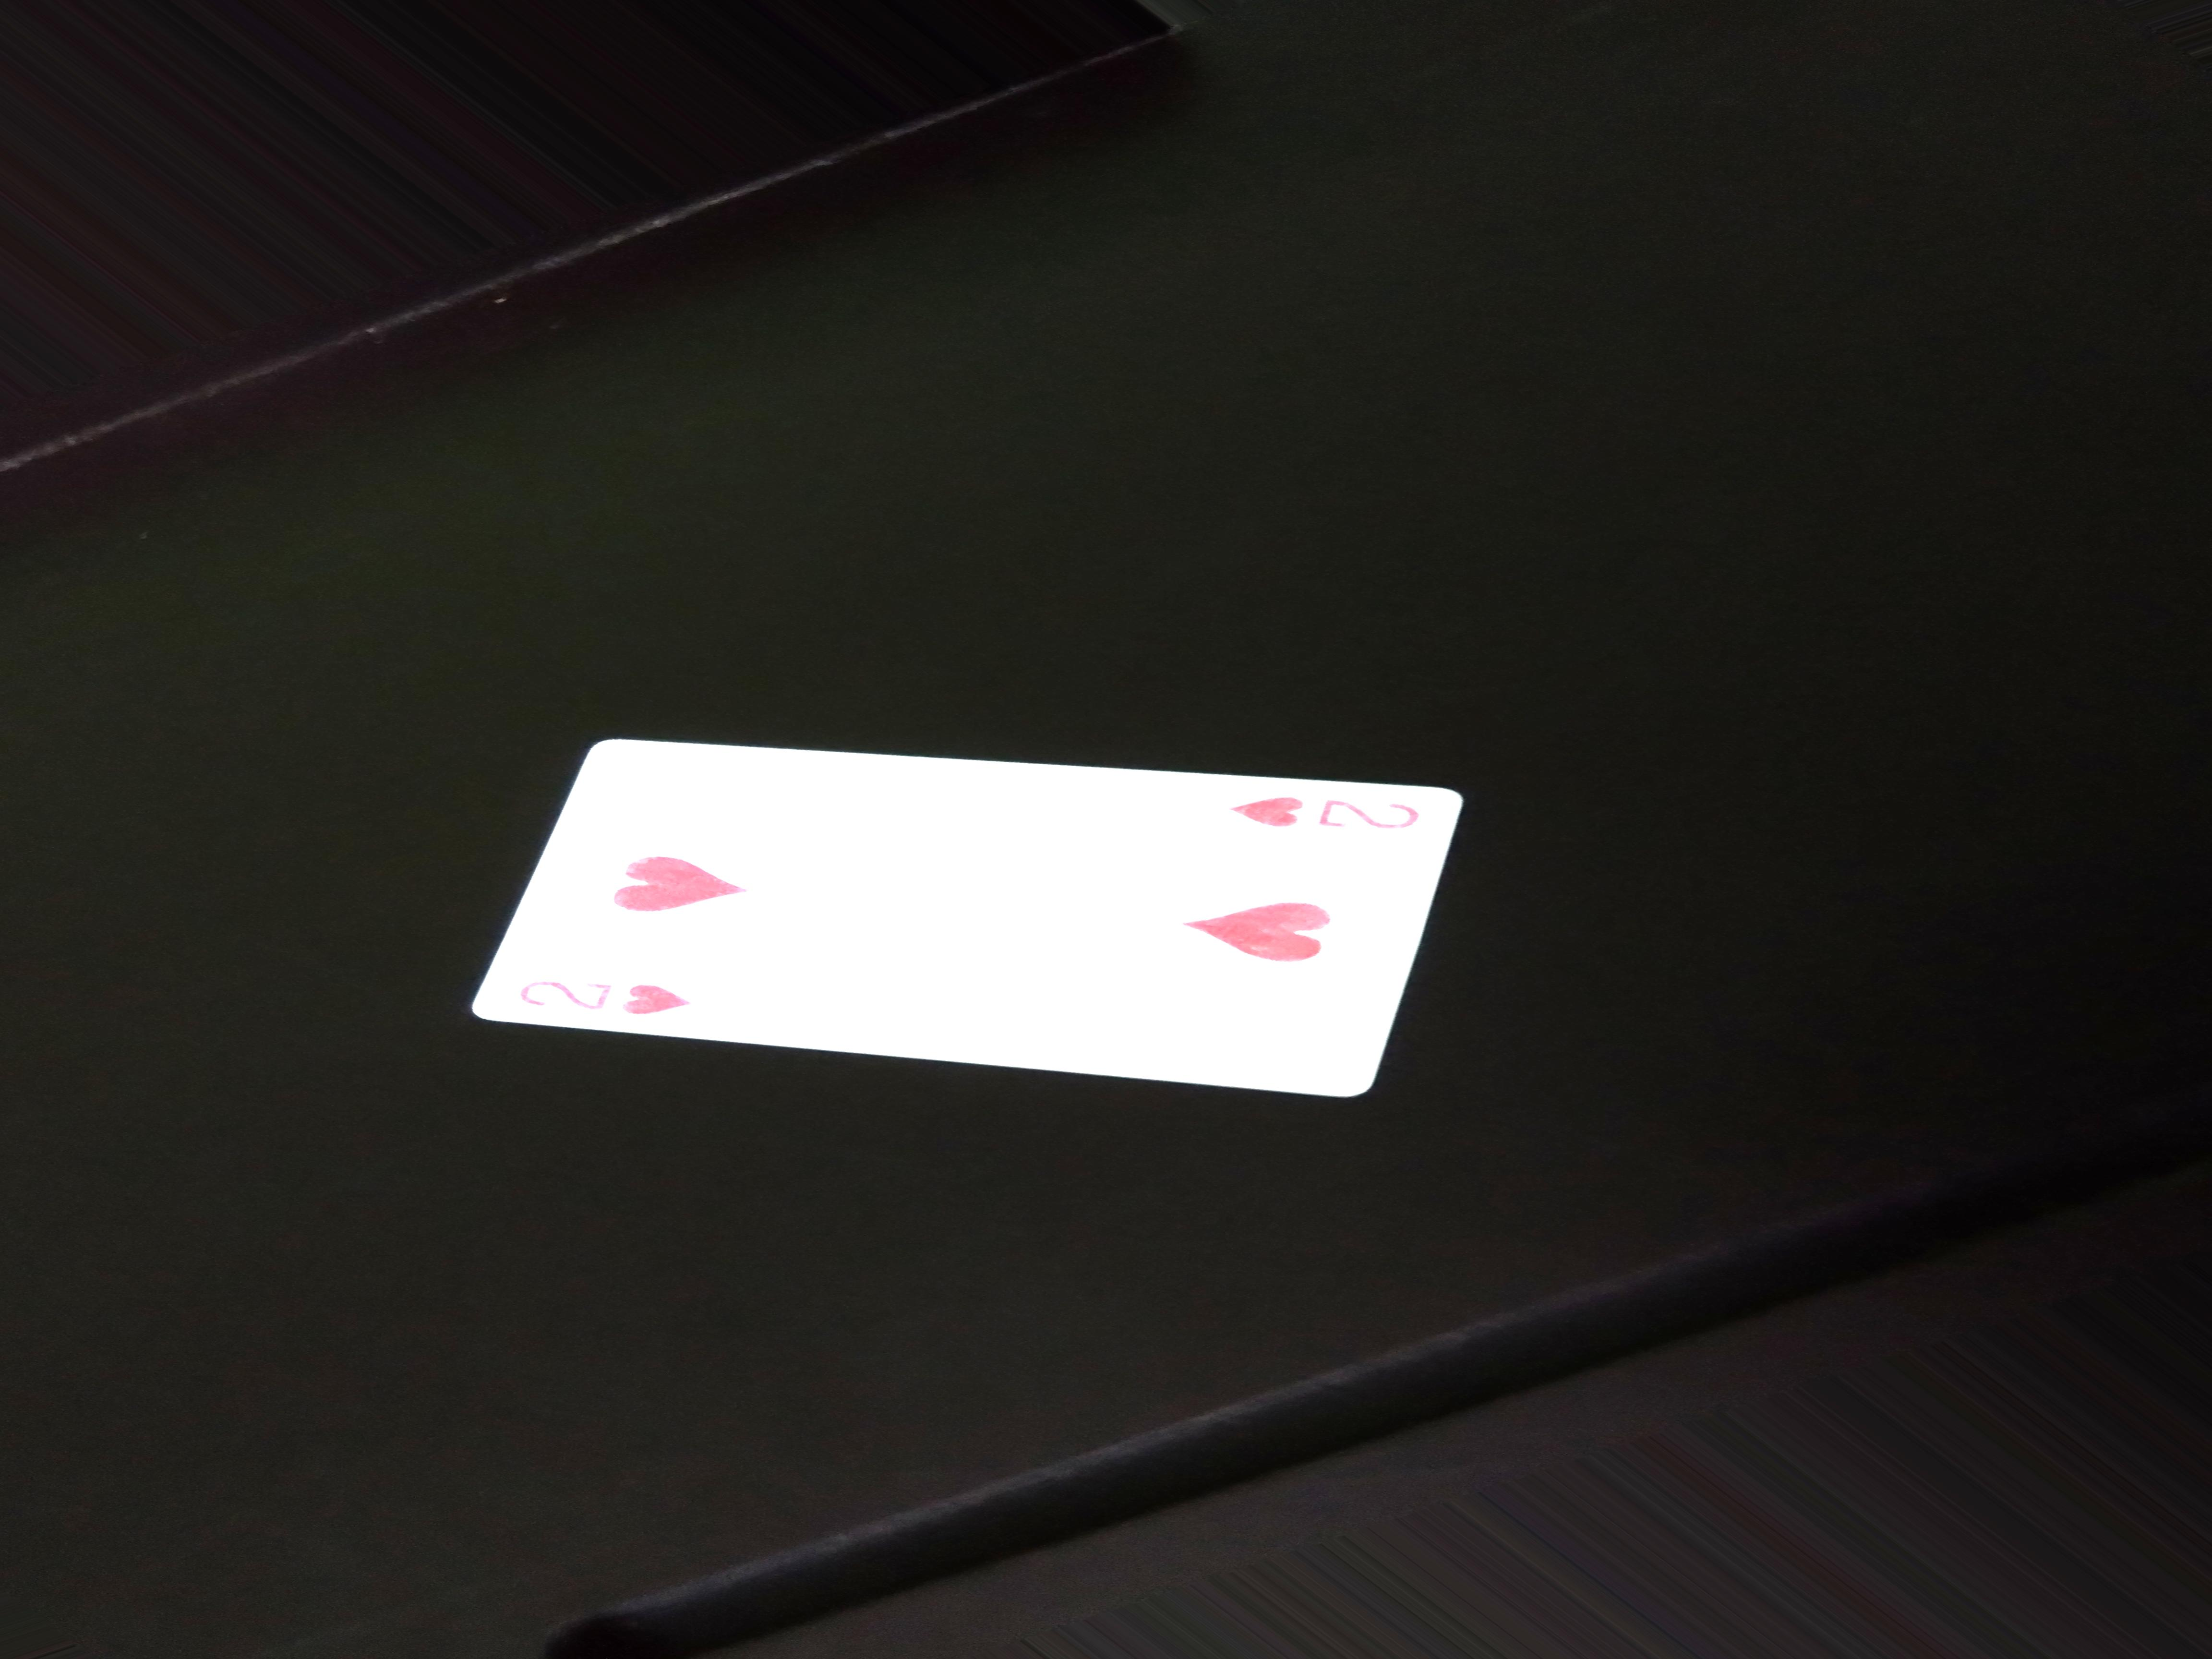2H: (495, 953, 716, 1025)
